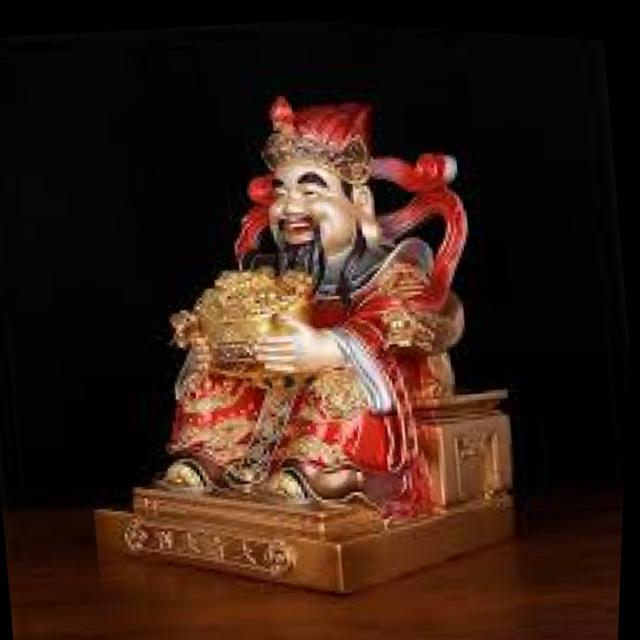Cai shen: (137, 67, 468, 527)
